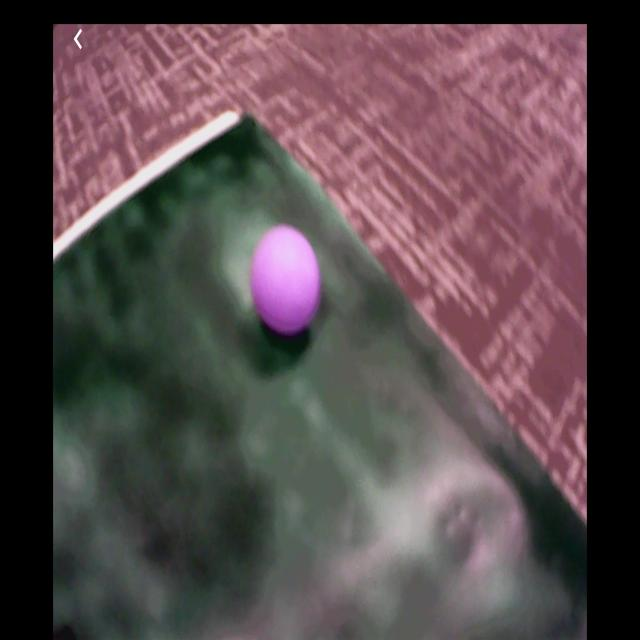ball: (253, 224, 318, 337)
